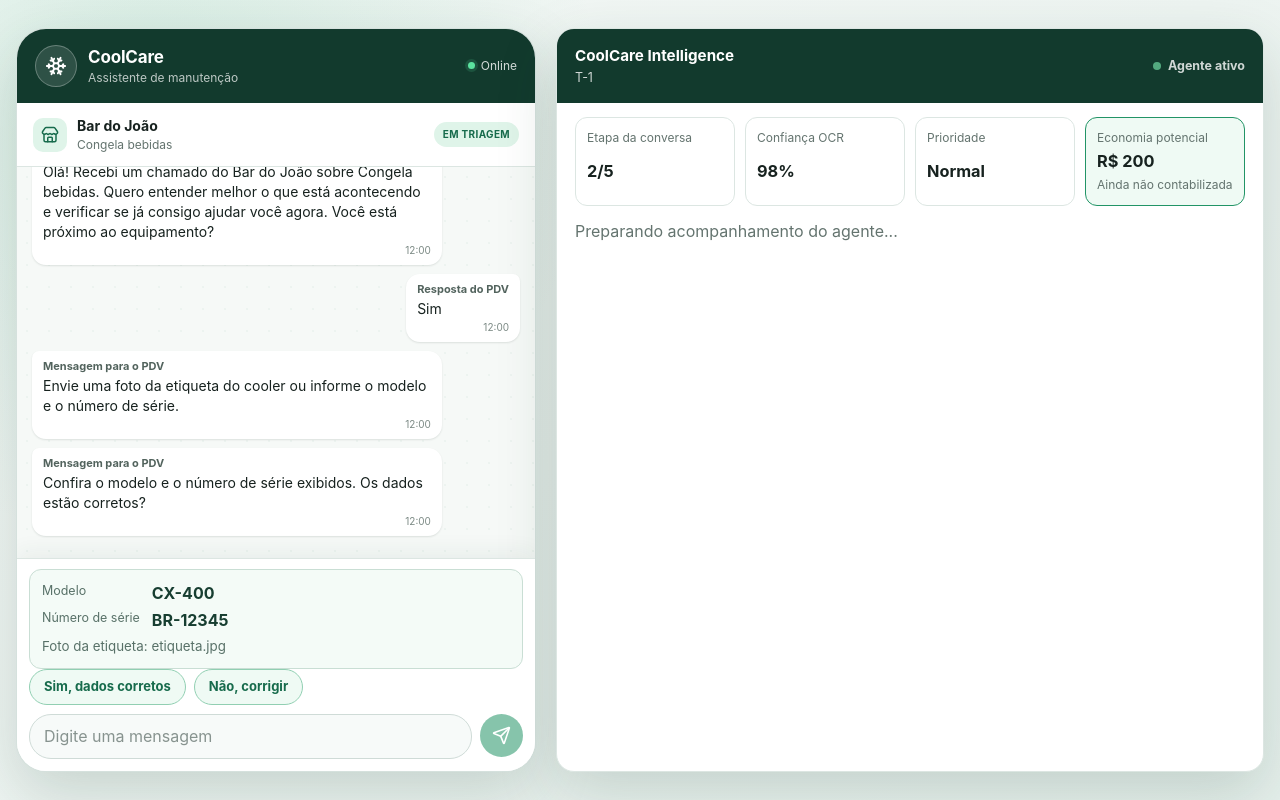
Test: negative equipment confirmation reopens manual correction
The width and height of the screenshot is (1280, 800).
(page scrolled)
Expected: the element named "confirmação do equipamento" is shown, [29,569,523,669]
Click the button "Não, corrigir": (248, 687) [194,669,303,705]
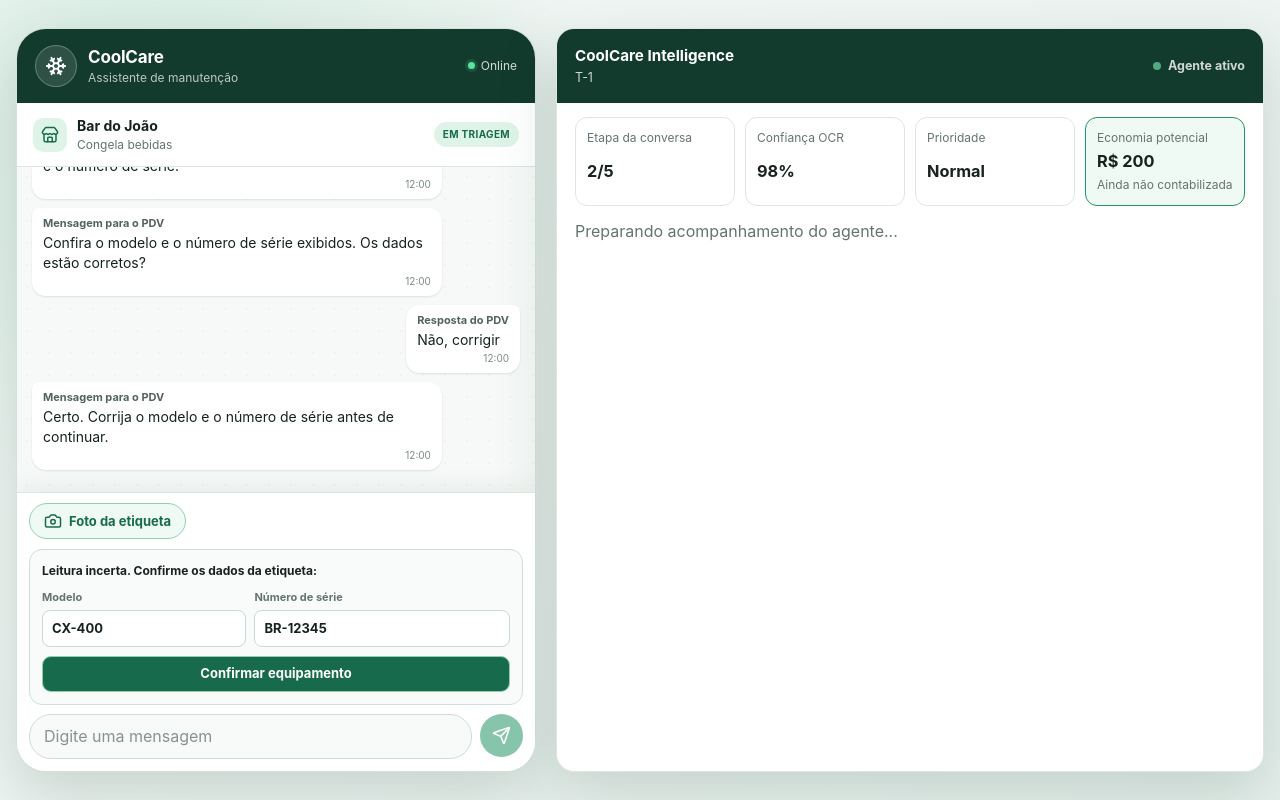
Expected: the form named "serial manual" is shown, [29,550,523,705]
Expected: the field labelled "Modelo" holds "CX-400", [42,610,246,647]
Expected: the field labelled "Número de série" holds "BR-12345", [254,610,510,647]
